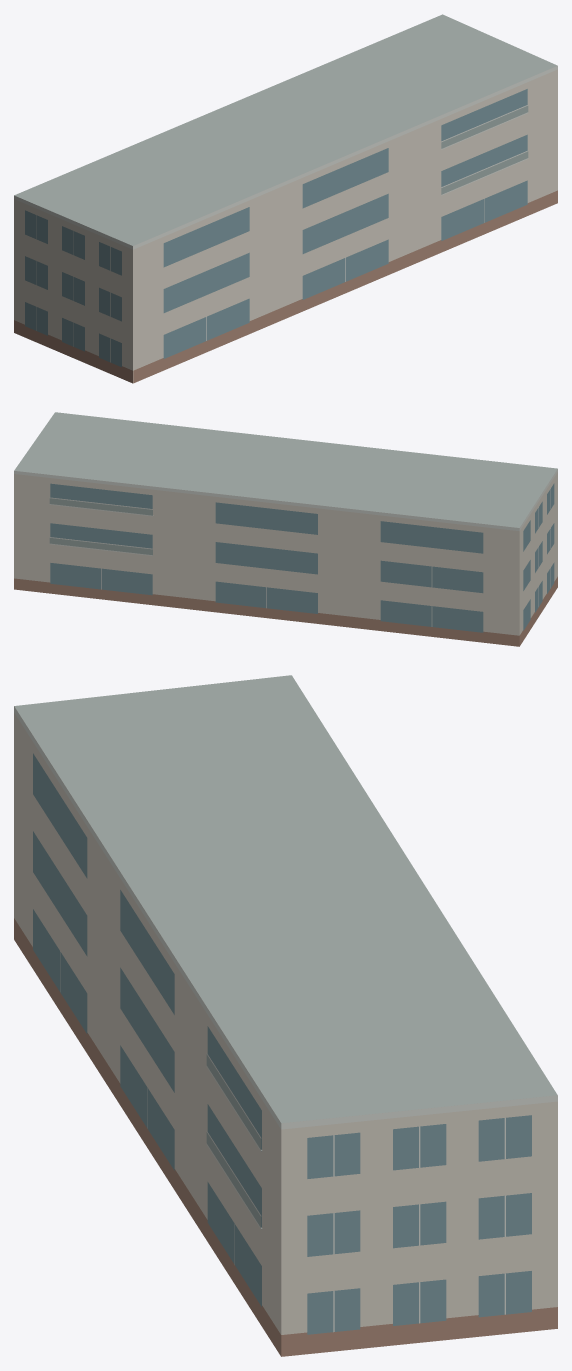
Rendered from survey-upis-32984621.glb.
The picture shows the model from 3 angles, top to bottom: view 1: azimuth 30°, elevation 25°; view 2: azimuth 150°, elevation 25°; view 3: azimuth 270°, elevation 25°; orthographic projection. The views are drawn at different scales.
Parts seen in each view (by area): view 1: survey-upis-32984621.tmp; view 2: survey-upis-32984621.tmp; view 3: survey-upis-32984621.tmp.
Part boxes in pixels (box(x1,y1,x2,y2)): survey-upis-32984621.tmp: box(14, 14, 557, 383); survey-upis-32984621.tmp: box(14, 412, 557, 646); survey-upis-32984621.tmp: box(14, 675, 557, 1356).
Size of the model in its own units: 37.68 by 9.15 by 19.32.
